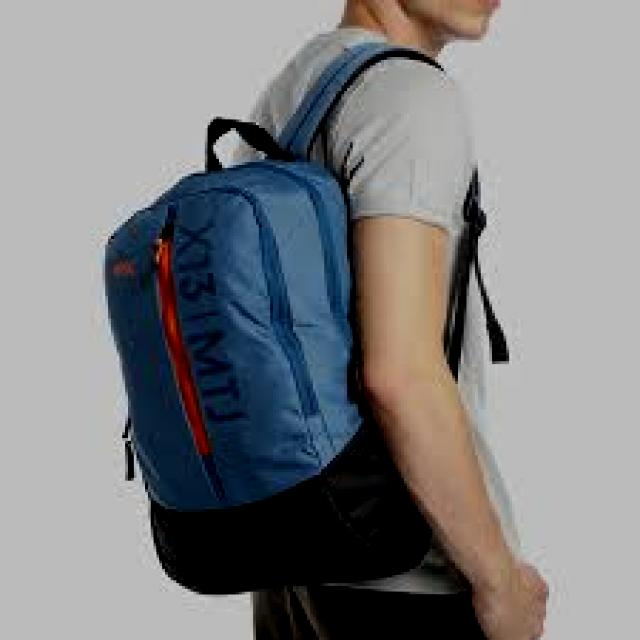backpack: (101, 41, 499, 595)
